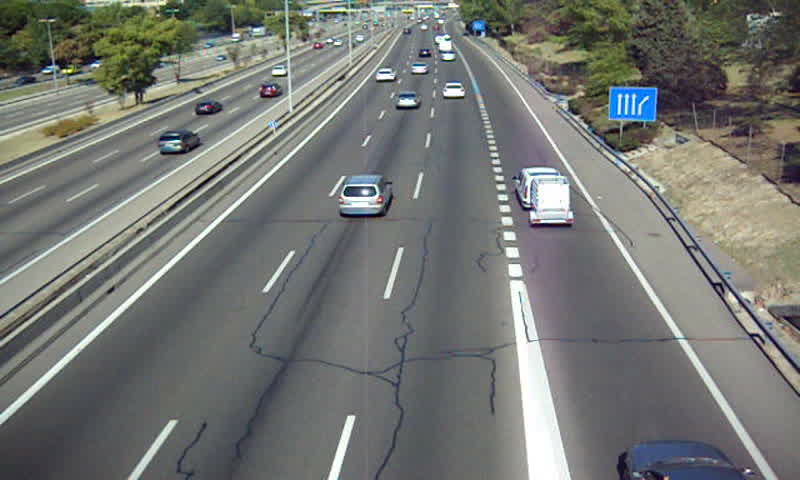car: (338, 175, 391, 216), (394, 90, 422, 109), (442, 82, 464, 100), (375, 67, 395, 83), (409, 62, 429, 76), (442, 50, 456, 62)
van: (513, 168, 566, 208)
